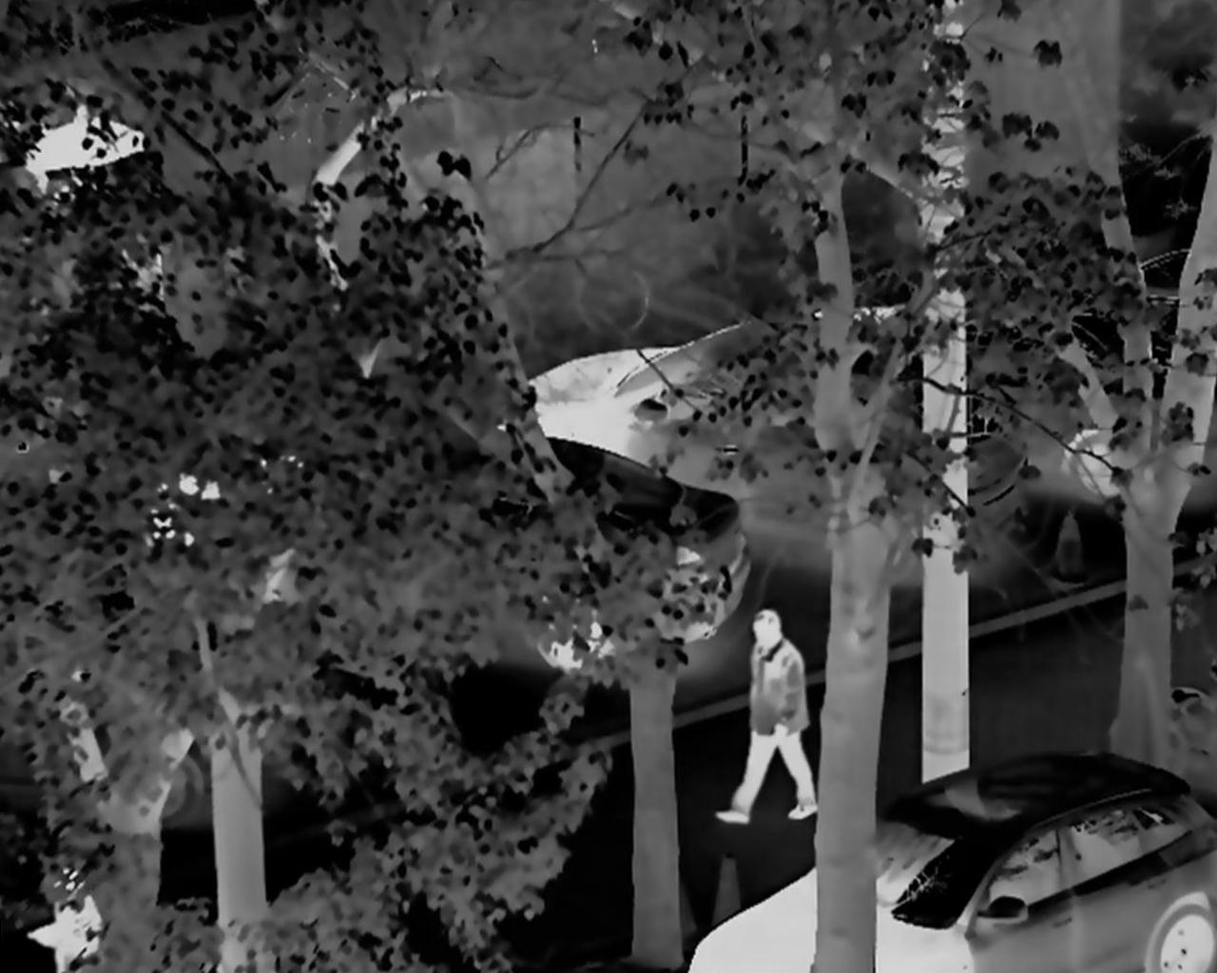person: (706, 604, 833, 842)
